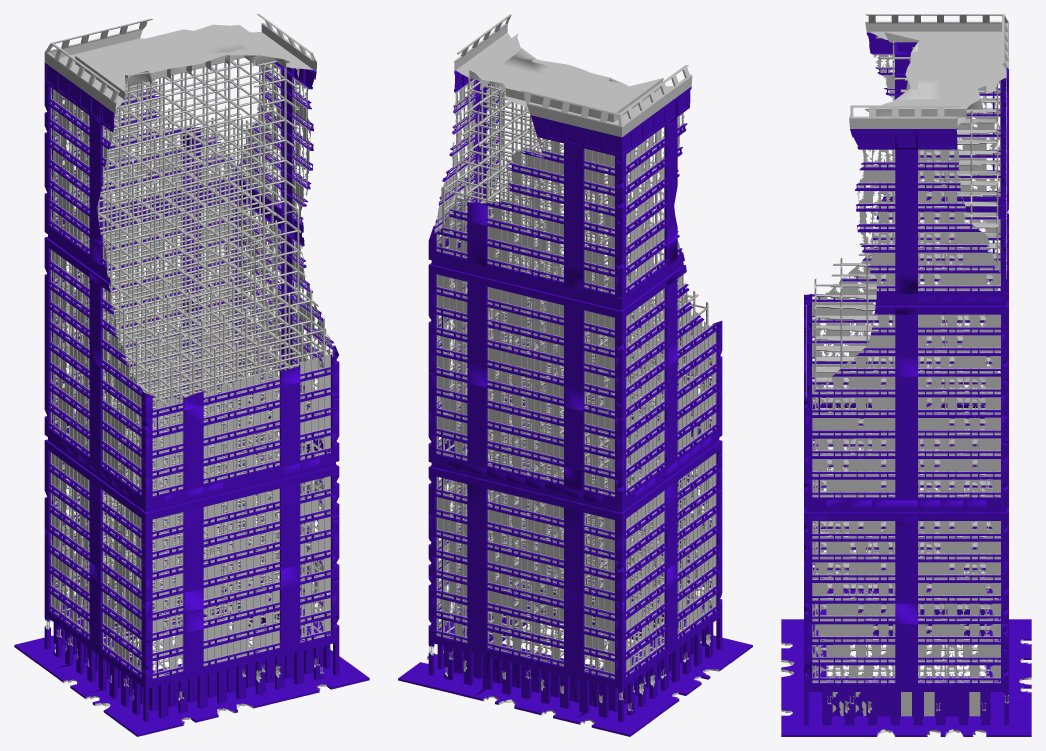
The model's file is post_apocalyptic_buildings_2.fbx.
The picture shows the model from 3 angles, left to right: view 1: azimuth 30°, elevation 25°; view 2: azimuth 150°, elevation 25°; view 3: azimuth 270°, elevation 25°; orthographic projection.
Visible parts, largest first — view 1: post_apocalyptic_buildings_2; view 2: post_apocalyptic_buildings_2; view 3: post_apocalyptic_buildings_2.
Part boxes in pixels (x1=…): post_apocalyptic_buildings_2: x1=14, y1=14, x2=369, y2=736; post_apocalyptic_buildings_2: x1=398, y1=14, x2=752, y2=736; post_apocalyptic_buildings_2: x1=781, y1=14, x2=1031, y2=736.
Bounding box in the file's own units: 72.04 × 180 × 66.05.
